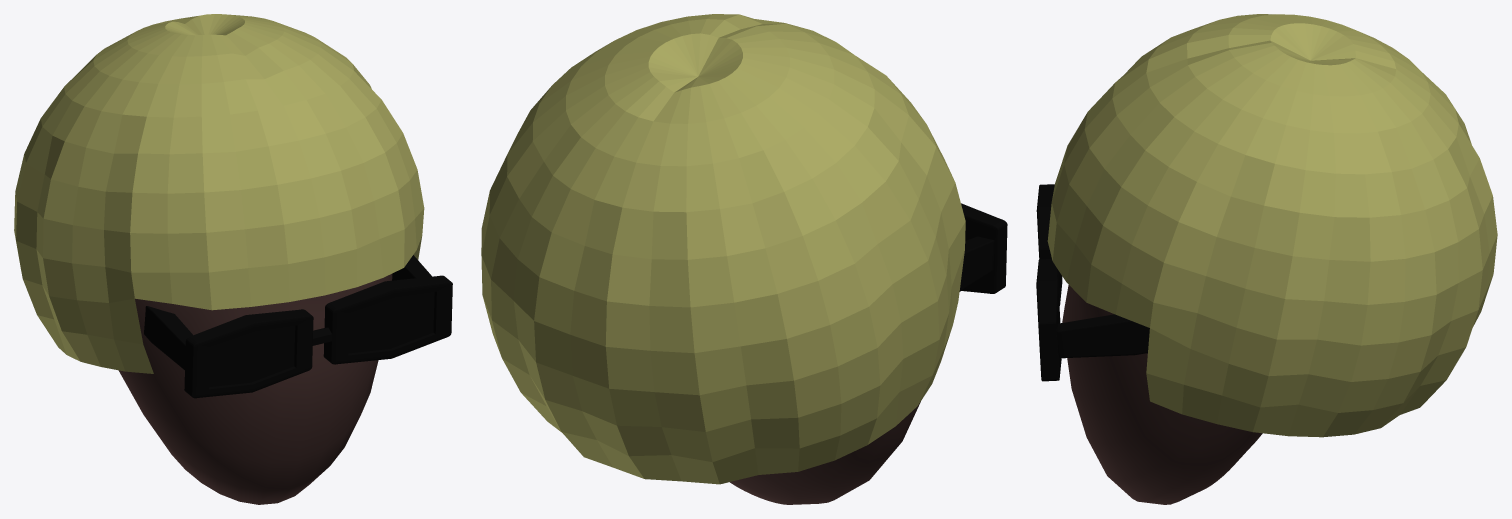
The model's file is TTC_WIG_v03.fbx.
The picture shows the model from 3 angles, left to right: view 1: azimuth 30°, elevation 25°; view 2: azimuth 150°, elevation 25°; view 3: azimuth 270°, elevation 25°; orthographic projection. The views are drawn at different scales.
Parts seen in each view (by area): view 1: Sphere.001, Sphere, Cube.002; view 2: Sphere.001, Sphere, Cube.002; view 3: Sphere.001, Sphere, Cube.002.
Boxes of the visible parts, x1,y1,x2,y2 form: Sphere.001: (14,14,424,373); Sphere: (118,274,392,504); Cube.002: (144,255,452,398); Sphere.001: (481,14,965,484); Sphere: (730,401,920,504); Cube.002: (959,203,1007,293); Sphere.001: (1047,14,1497,437); Sphere: (1062,285,1262,504); Cube.002: (1036,184,1149,381).
Size of the model in its own units: 266 by 304 by 272.
